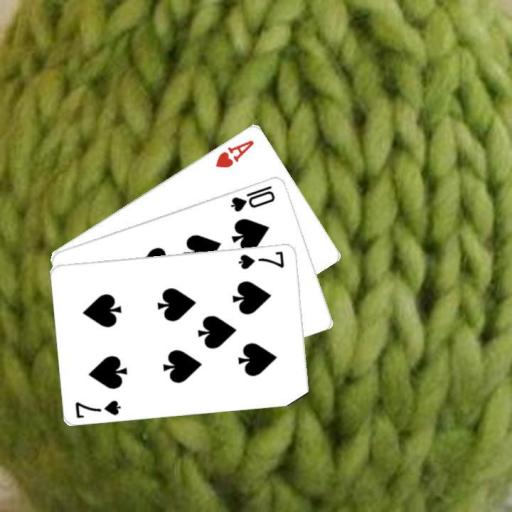10S: (228, 182, 277, 213)
7S: (235, 248, 286, 271), (73, 397, 123, 420)
AH: (212, 136, 256, 169)
